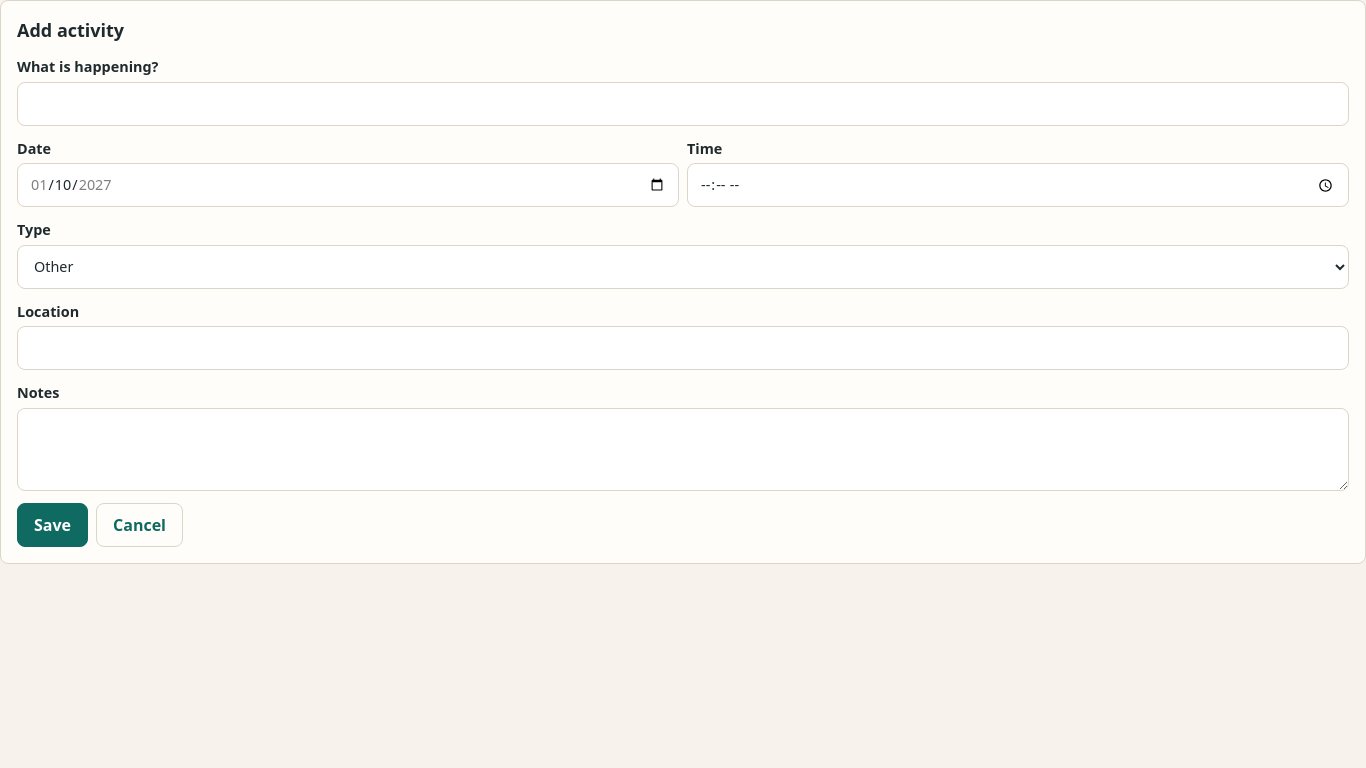
Test: needs a title
The width and height of the screenshot is (1366, 768).
Step 1. Click the button "Save" → point(52, 525), box left=17, top=503, right=88, bottom=547
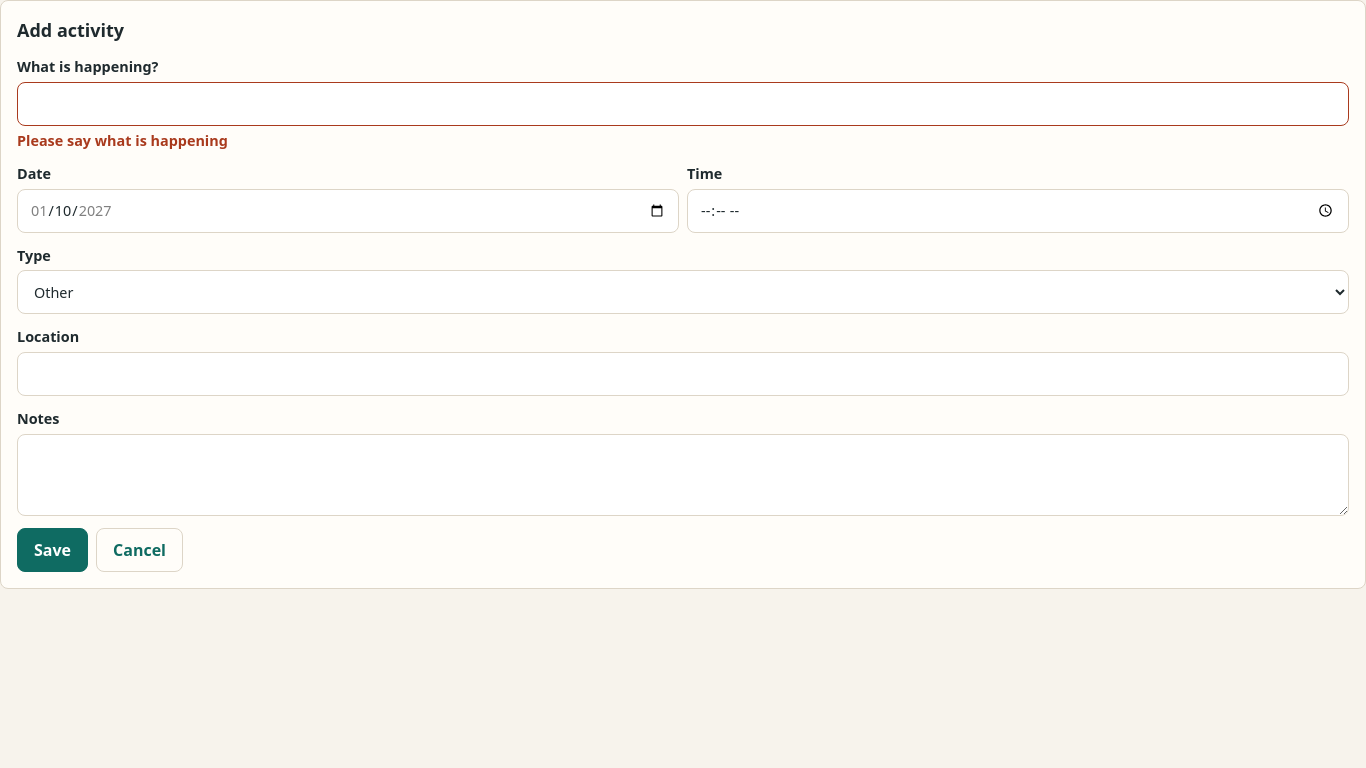
Result: the text "Please say what is happening" is shown at left=17, top=131, right=228, bottom=150
